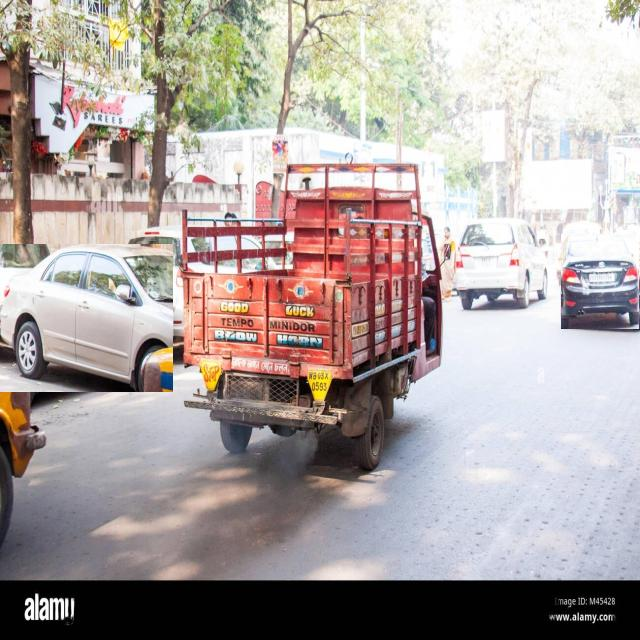car: (0, 244, 173, 392), (455, 218, 548, 309), (561, 234, 640, 329)
truck: (181, 163, 442, 468)
